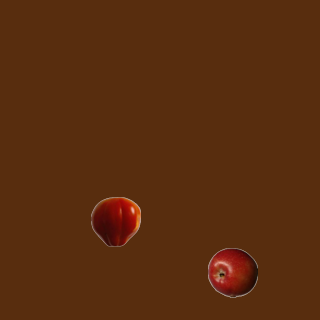Apple Braeburn: (207, 247, 257, 297)
Tomato 1: (90, 196, 140, 246)
